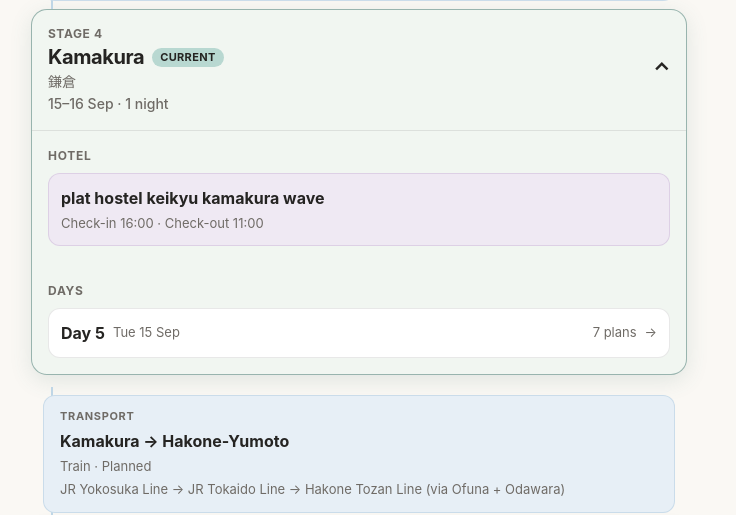
Scenario: TripPage navigation and shared details › navigates real Day 5 to the matching Today date
The image size is (736, 515).
(page scrolled)
Click the link with aria-label "Day 5, Tue 15 Sep" at (78, 333), box [48,308,670,358]
(page scrolled)
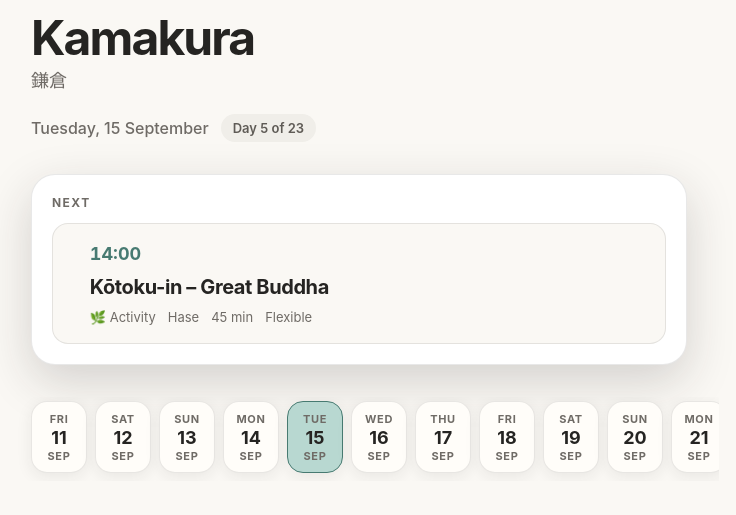
expect the text "Day 5 of 23" is shown: met, box [221,114,316,142]
expect the heading "Kamakura" is shown: met, box [31,8,254,67]
